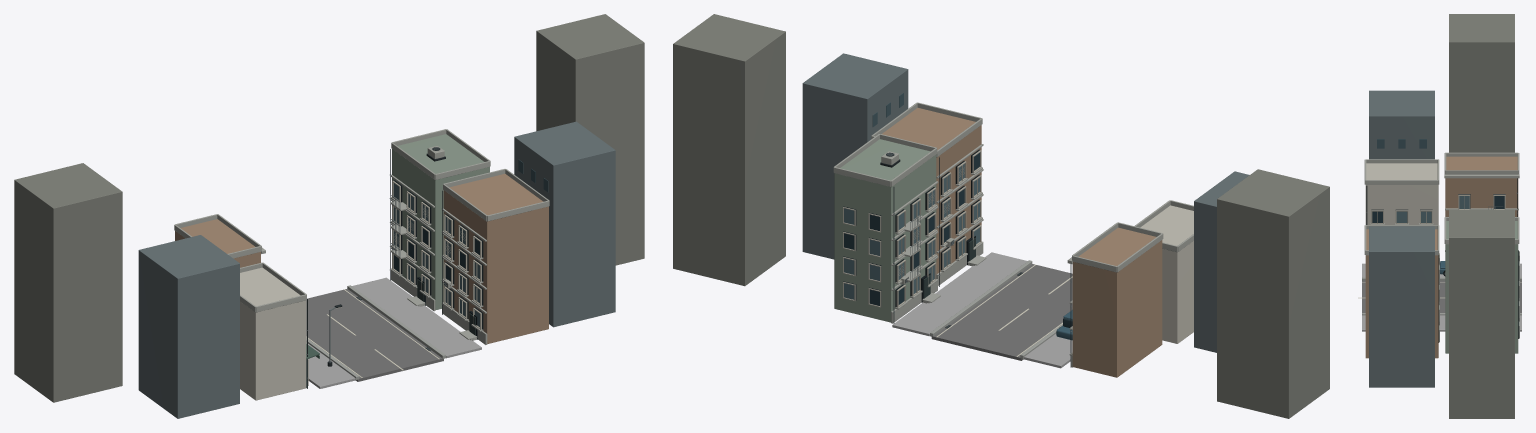
The model's file is city_hd_16.glb.
3 renders of one model, left to right at view 1: azimuth 30°, elevation 25°; view 2: azimuth 150°, elevation 25°; view 3: azimuth 270°, elevation 25°, orthographic. The views are drawn at different scales.
Visible parts, largest first — view 1: CITY_distant_1, CITY_distant_0, CITY_wall_brick_tan, Mixed use shop volume, CITY_trim, CITY_PBR_asphalt, Masonry apartment volume.001, CITY_PBR_pavement, CITY_frame, CITY_glass, CITY_recess, CITY_curb; view 2: CITY_distant_1, CITY_wall_brick_tan, CITY_distant_0, Masonry apartment volume.001, CITY_PBR_asphalt, CITY_trim, CITY_PBR_pavement, Mixed use shop volume, CITY_frame, CITY_glass, CITY_recess, CITY_glass_dark (+2 smaller); view 3: CITY_distant_1, CITY_distant_0, CITY_wall_brick_tan, Mixed use shop volume, CITY_trim, Masonry apartment volume.001, CITY_frame, CITY_glass, CITY_PBR_asphalt, CITY_glass_dark, CITY_PBR_pavement, CITY_recess (+1 smaller).
Part boxes in pixels (left/top/right/bottom): CITY_distant_1: left=14, top=14, right=644, bottom=402; CITY_distant_0: left=138, top=121, right=615, bottom=418; CITY_wall_brick_tan: left=175, top=174, right=548, bottom=343; Mixed use shop volume: left=240, top=267, right=306, bottom=400; CITY_trim: left=174, top=129, right=549, bottom=344; CITY_PBR_asphalt: left=306, top=289, right=443, bottom=381; Masonry apartment volume.001: left=392, top=134, right=489, bottom=310; CITY_PBR_pavement: left=306, top=277, right=481, bottom=388; CITY_frame: left=308, top=180, right=481, bottom=385; CITY_glass: left=393, top=183, right=479, bottom=327; CITY_recess: left=393, top=180, right=483, bottom=339; CITY_curb: left=306, top=285, right=445, bottom=379; CITY_distant_1: left=673, top=14, right=1329, bottom=418; CITY_wall_brick_tan: left=882, top=108, right=1162, bottom=377; CITY_distant_0: left=802, top=53, right=1249, bottom=352; Masonry apartment volume.001: left=834, top=139, right=936, bottom=322; CITY_PBR_asphalt: left=931, top=264, right=1072, bottom=360; CITY_trim: left=833, top=102, right=1193, bottom=367; CITY_PBR_pavement: left=892, top=252, right=1072, bottom=368; Mixed use shop volume: left=1140, top=205, right=1193, bottom=343; CITY_frame: left=843, top=150, right=981, bottom=307; CITY_glass: left=844, top=164, right=979, bottom=299; CITY_recess: left=843, top=149, right=979, bottom=307; CITY_glass_dark: left=844, top=153, right=1072, bottom=327; CITY_distant_1: left=1449, top=14, right=1514, bottom=418; CITY_distant_0: left=1369, top=90, right=1434, bottom=387; CITY_wall_brick_tan: left=1365, top=156, right=1518, bottom=358; Mixed use shop volume: left=1365, top=163, right=1438, bottom=224; CITY_trim: left=1364, top=152, right=1519, bottom=255; Masonry apartment volume.001: left=1445, top=221, right=1518, bottom=353; CITY_frame: left=1371, top=194, right=1519, bottom=342; CITY_glass: left=1396, top=196, right=1519, bottom=341; CITY_PBR_asphalt: left=1362, top=281, right=1521, bottom=312; CITY_glass_dark: left=1372, top=196, right=1519, bottom=325; CITY_PBR_pavement: left=1362, top=263, right=1521, bottom=331; CITY_recess: left=1371, top=194, right=1518, bottom=342.
Bounding box in the file's own units: 57.3 × 20.26 × 16.4.
